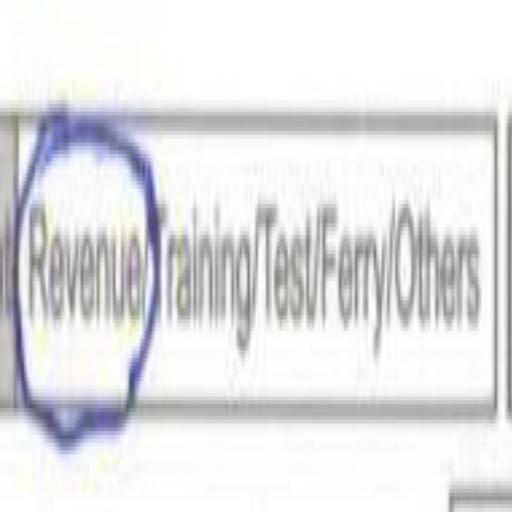check: (21, 55, 149, 512)
